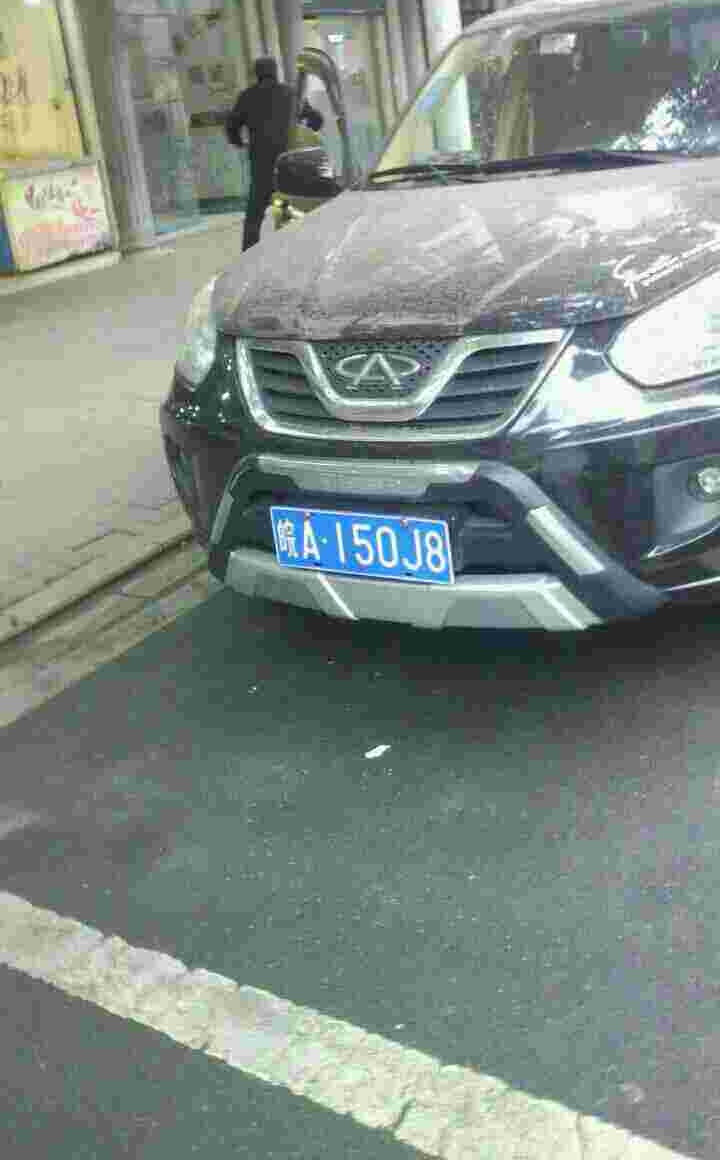license_plate: (276, 499, 449, 581)
